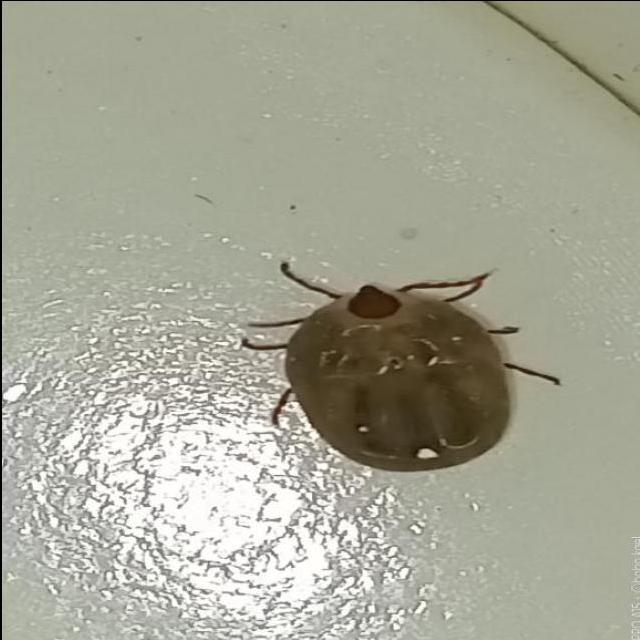Rhipicephalus Sanguineus-F-Fed: (223, 254, 560, 470)
